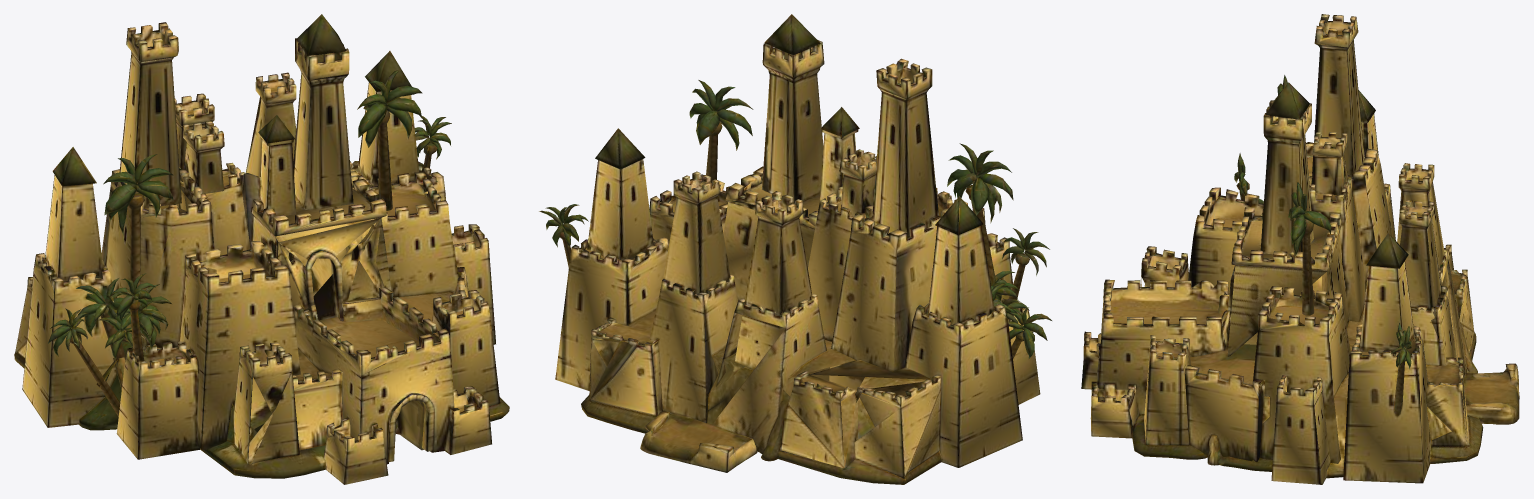
Rendered from citta.glb.
3 renders of one model, left to right at view 1: azimuth 30°, elevation 25°; view 2: azimuth 150°, elevation 25°; view 3: azimuth 270°, elevation 25°, orthographic. The views are drawn at different scales.
Bounding box in the file's own units: 0.9438 × 0.71 × 0.8589.
Materials: 1 (1 with a texture image).
